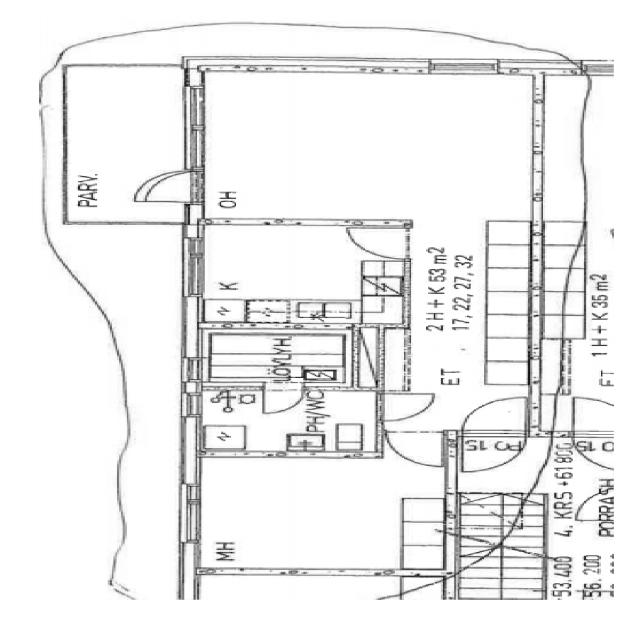door: (456, 435, 528, 482), (457, 396, 531, 436), (132, 168, 204, 206), (343, 224, 415, 261), (382, 431, 448, 469), (372, 390, 440, 425), (259, 384, 309, 418)
window: (171, 81, 218, 175), (173, 230, 216, 303), (172, 479, 208, 547), (211, 216, 348, 232), (426, 57, 505, 77), (175, 383, 206, 421)
zone: (195, 70, 546, 224), (188, 454, 449, 576), (193, 224, 409, 327), (61, 64, 188, 227), (201, 387, 380, 458), (193, 328, 368, 387), (455, 554, 547, 601), (546, 558, 614, 602)
